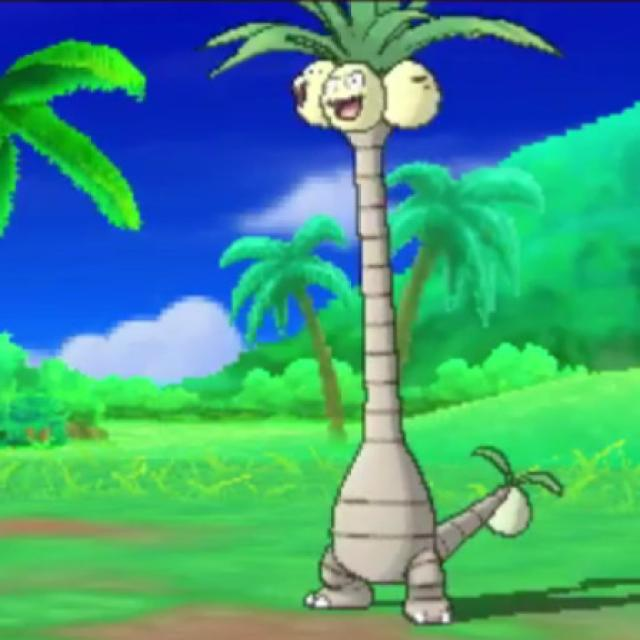Exeggutor: (265, 0, 506, 588)
